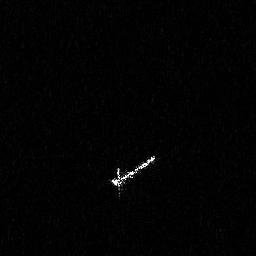ship: (109, 153, 158, 202)
